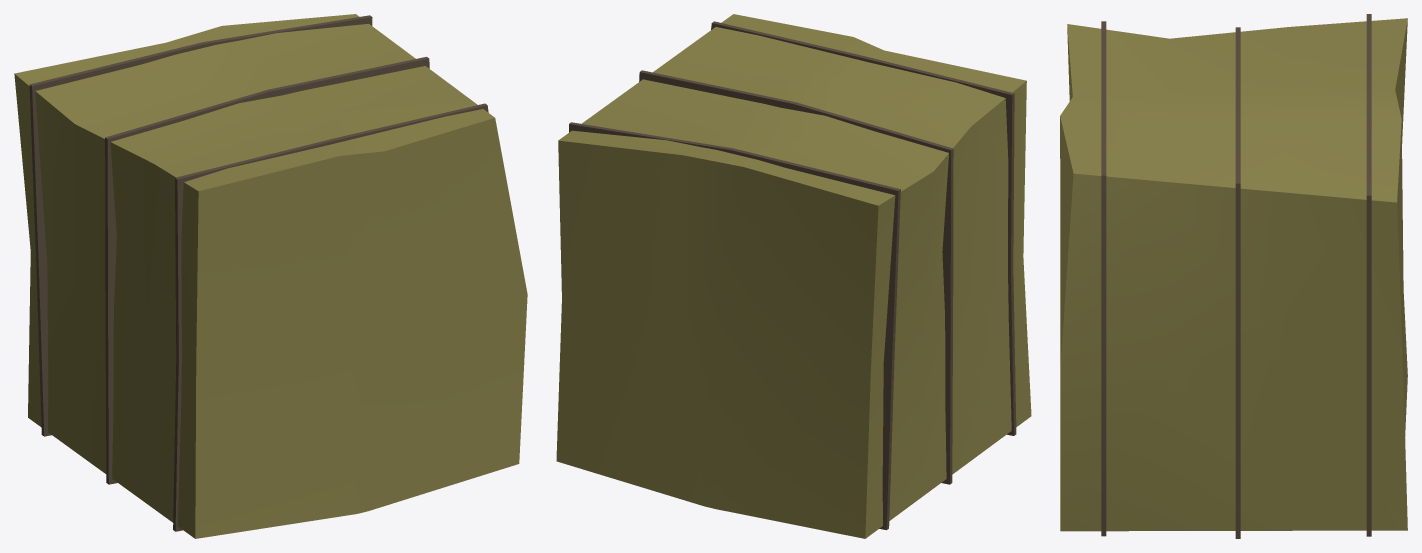
File: Hay2.fbx
3 views of the same model, side by side, from view 1: azimuth 30°, elevation 25°; view 2: azimuth 150°, elevation 25°; view 3: azimuth 270°, elevation 25° (orthographic). The views are drawn at different scales.
Parts seen in each view (by area): view 1: pasted__pasted__pasted__pCube6; view 2: pasted__pasted__pasted__pCube6; view 3: pasted__pasted__pasted__pCube6.
Boxes of the visible parts, bbox=[...] form: pasted__pasted__pasted__pCube6: bbox=[14, 14, 527, 538]; pasted__pasted__pasted__pCube6: bbox=[556, 14, 1031, 538]; pasted__pasted__pasted__pCube6: bbox=[1060, 14, 1407, 538].
Bounding box in the file's own units: 1.12 × 1.12 × 0.9621.
